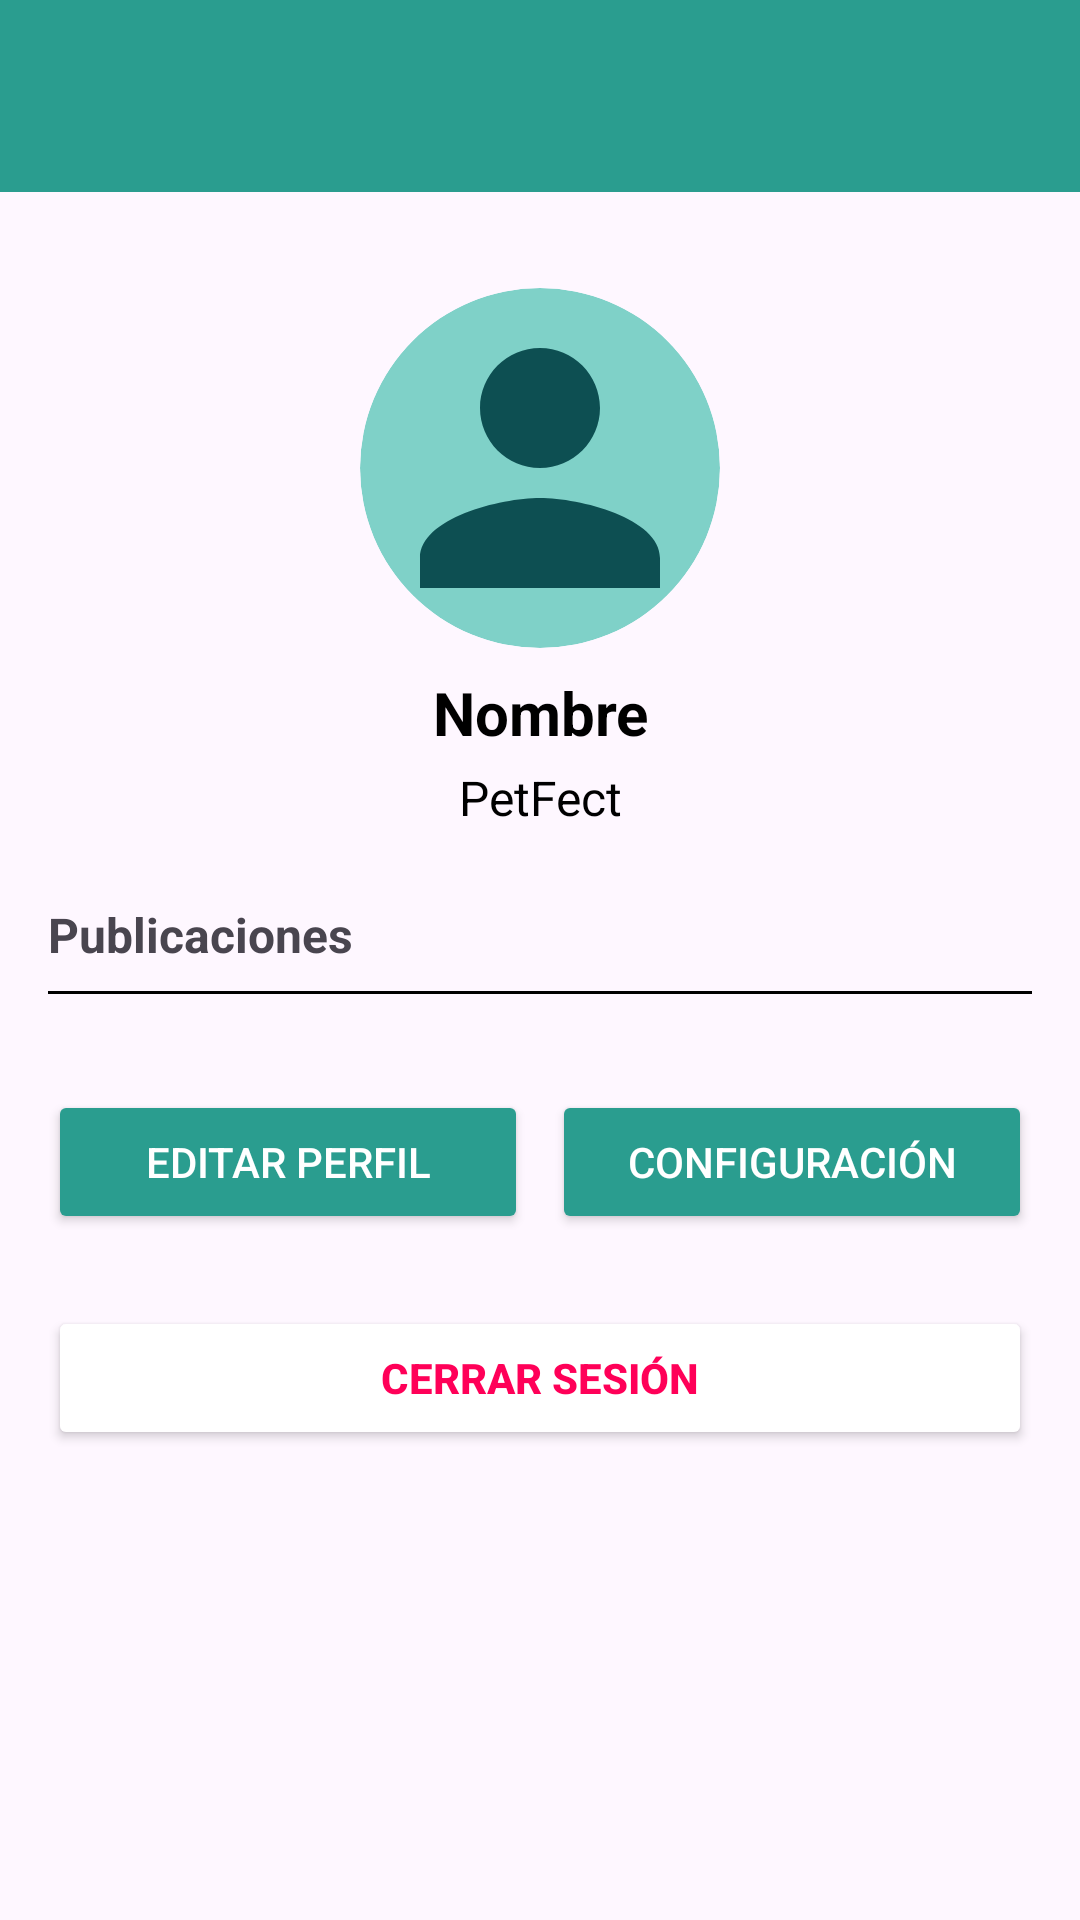

Where icons sit on this 1080*1920 app screen, as (x1, y1, x2, y2):
person: (360, 288, 720, 648)
